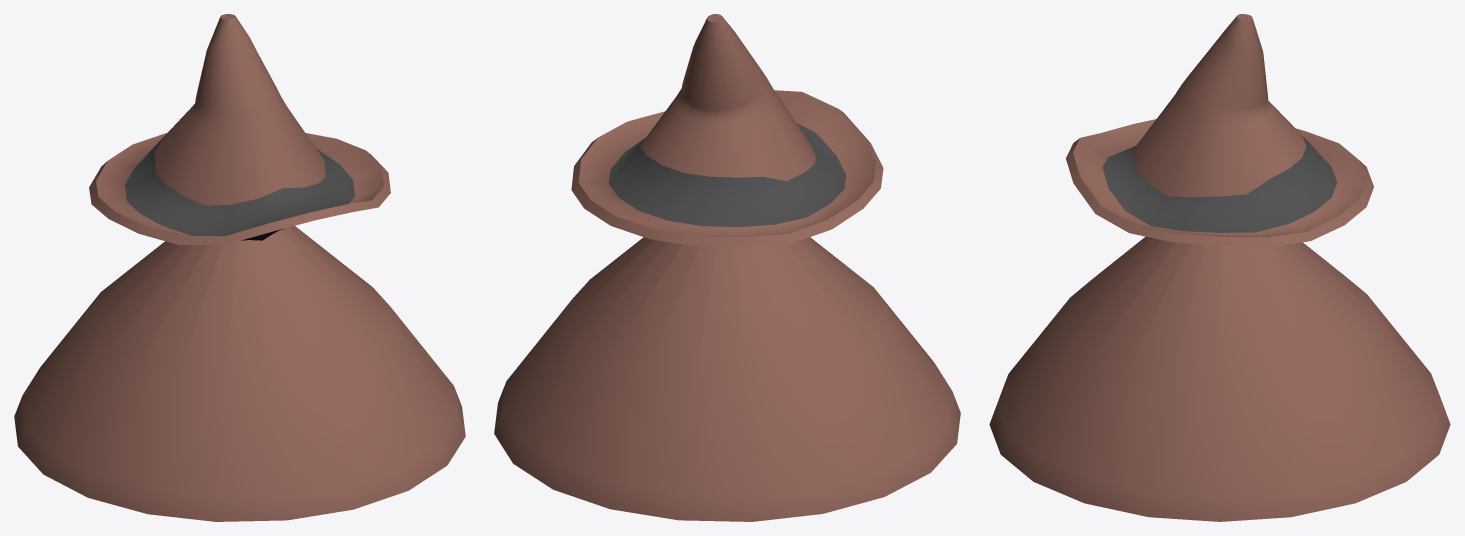
Rendered from Enemy.fbx.
3 renders of one model, left to right at view 1: azimuth 30°, elevation 25°; view 2: azimuth 150°, elevation 25°; view 3: azimuth 270°, elevation 25°, orthographic. The views are drawn at different scales.
Visible parts, largest first — view 1: pCone1, pCylinder1; view 2: pCone1, pCylinder1; view 3: pCone1, pCylinder1.
Part boxes in pixels (x1,y1,x2,y2): pCone1: (14, 226, 465, 521); pCylinder1: (89, 14, 390, 245); pCone1: (494, 237, 960, 521); pCylinder1: (571, 14, 883, 247); pCone1: (989, 236, 1450, 521); pCylinder1: (1066, 14, 1373, 247).
Bounding box in the file's own units: 200 × 195 × 200.
